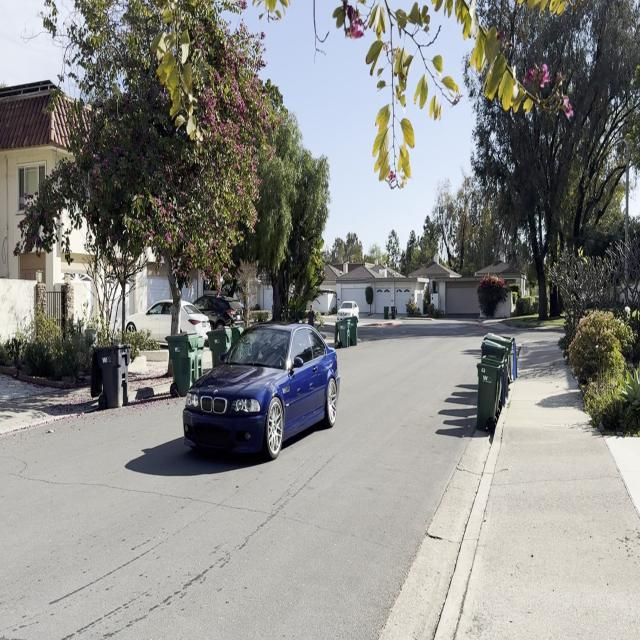Carbeetle: (178, 300, 350, 470)
